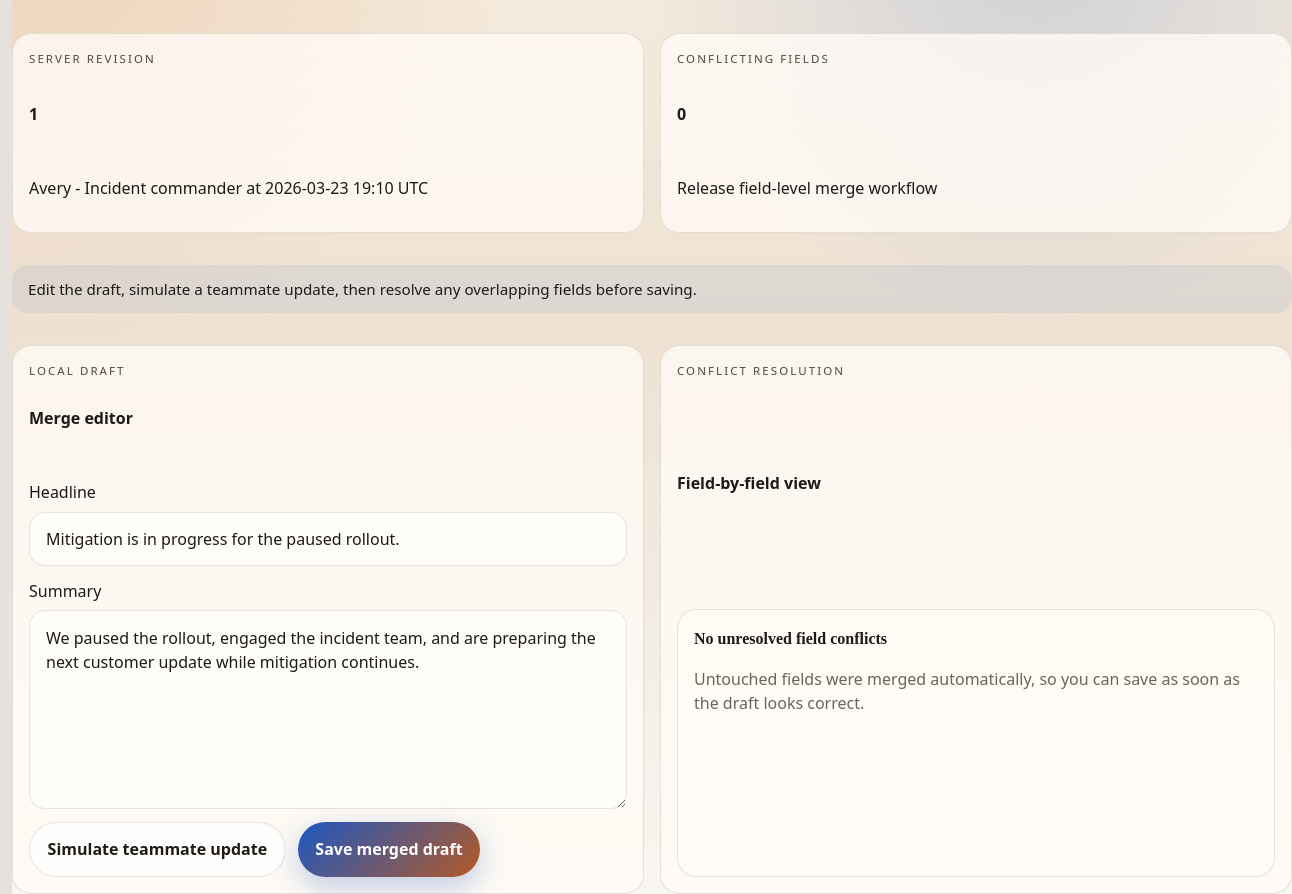
Scenario: release field-level merge resolution › resolves the conflicting field and saves the merged draft
(page scrolled)
Step 1. Replace the text in the text box named "Summary draft" with "We paused the rollout, engaged the incident team, and I am drafting the next customer update while mitigation continues." → (328, 710), box [29,610,627,809]
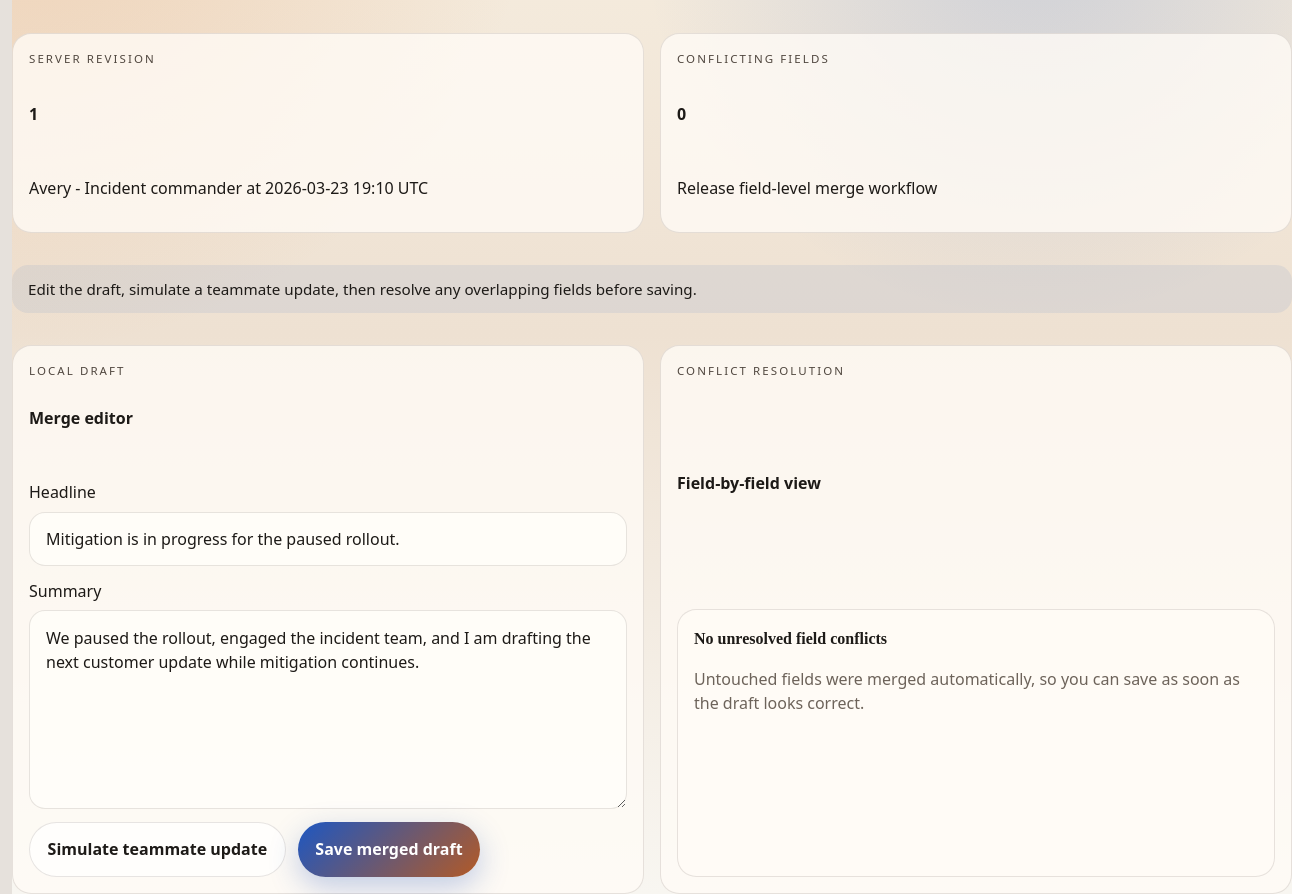
Step 2. Click the button "Simulate teammate update" → (157, 849), box [29,822,286,877]
Wait 180 ms
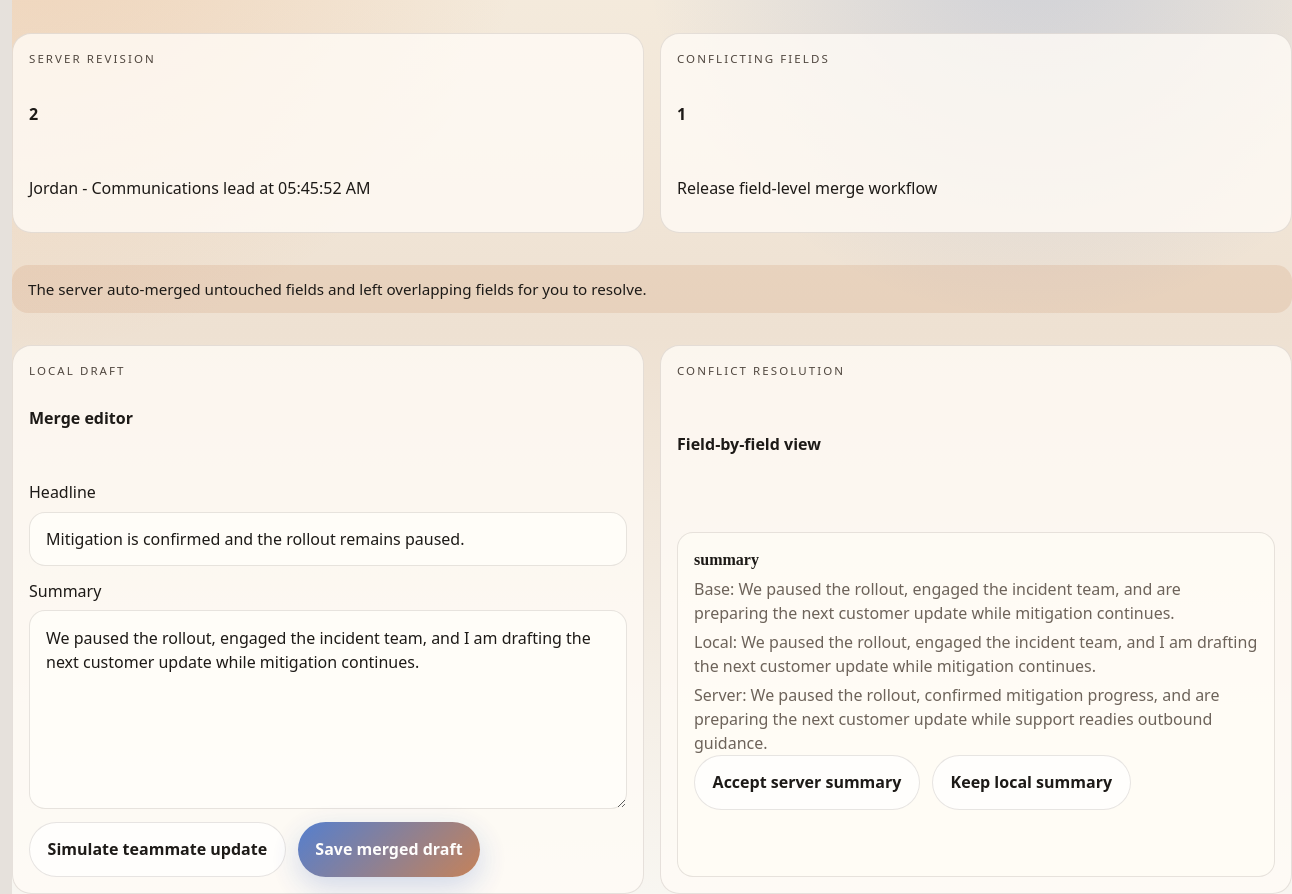
Step 3. Click the button "Keep local summary" → (1031, 782), box [932,755,1131,810]
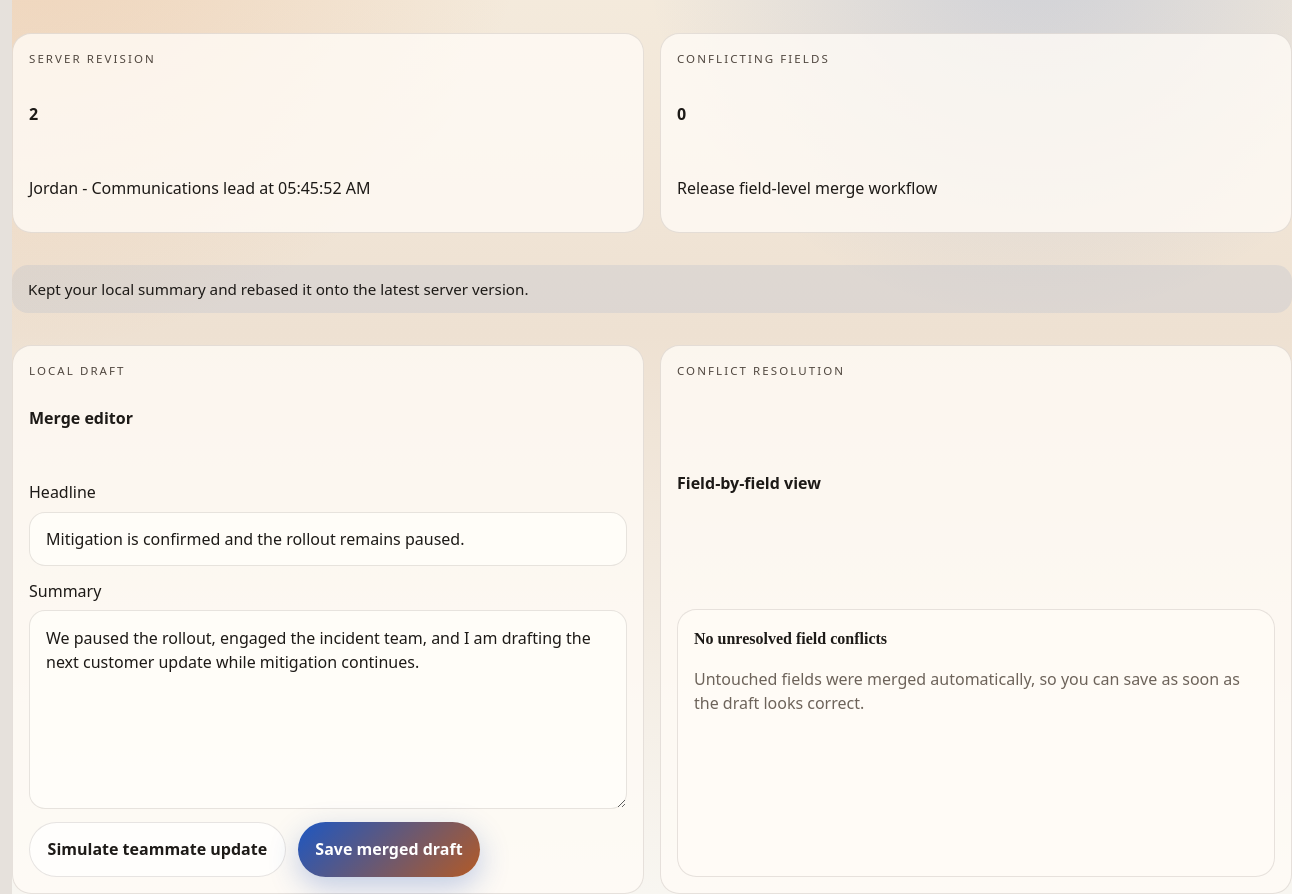
Step 4. Click the button "Save merged draft" → (389, 849), box [298,822,480,877]
Wait 240 ms
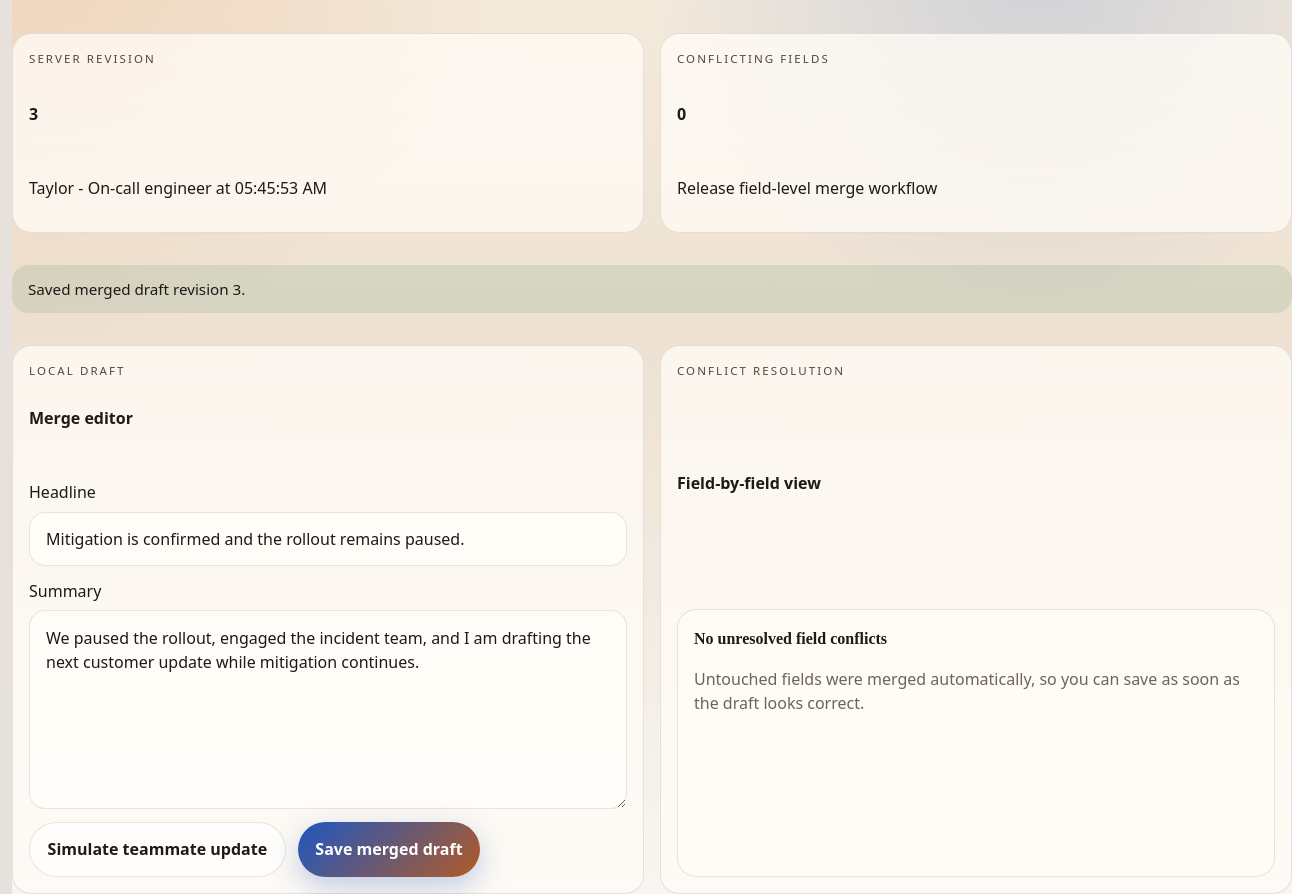
expect the text "Saved merged draft revision 3." is shown: met, box [12,265,1291,313]
